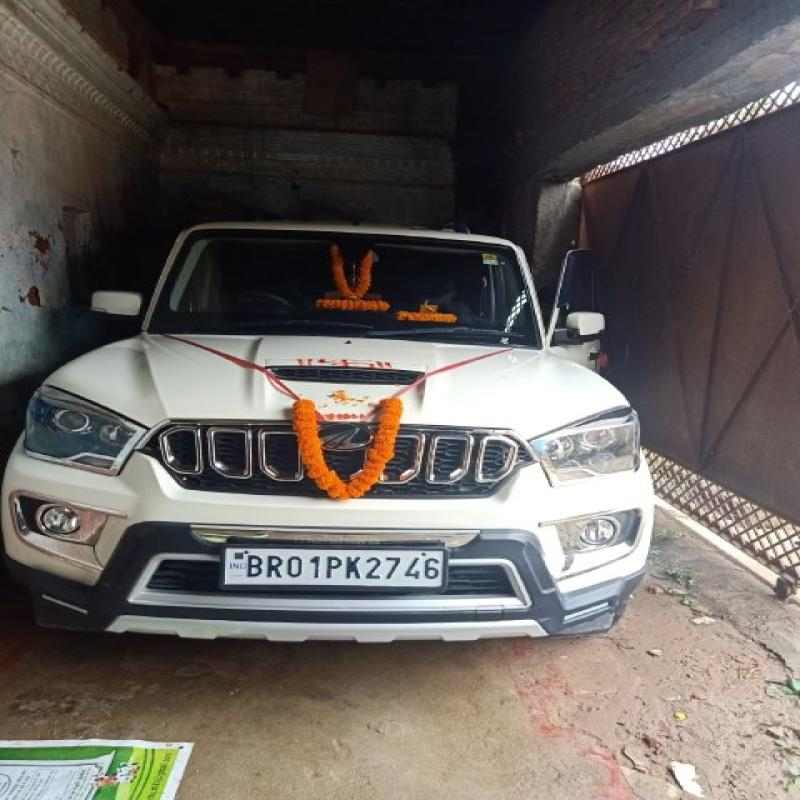car: (31, 194, 652, 648)
